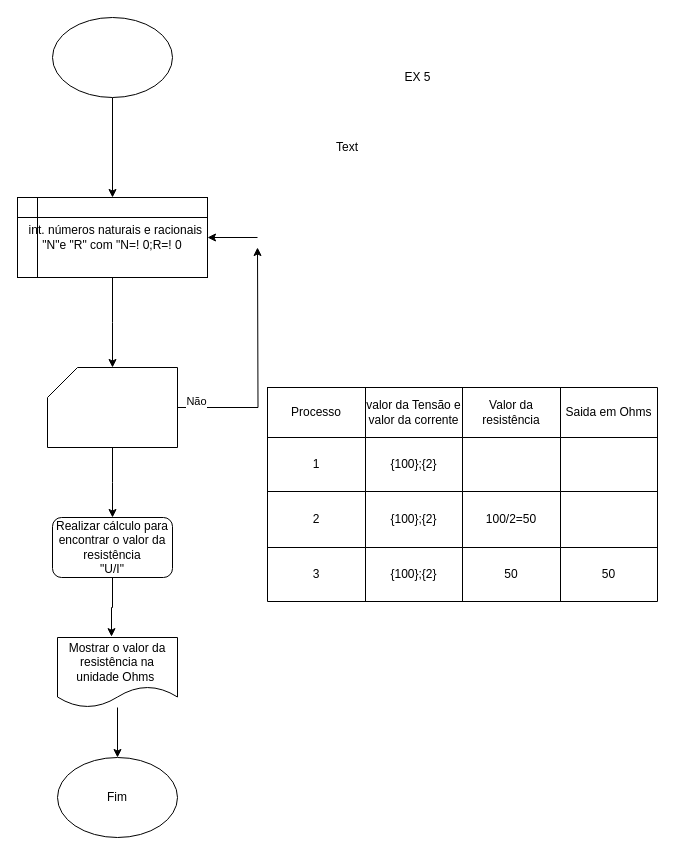
Some shapes in this 675 by 855 pixel diagram are drawn without their labels. Each missing label, with the box of its shape:
Inico: (52, 16, 172, 98)
introduzir primeiro o valor de tensão em segundo o valor da corrente "U e I": (46, 366, 178, 448)
